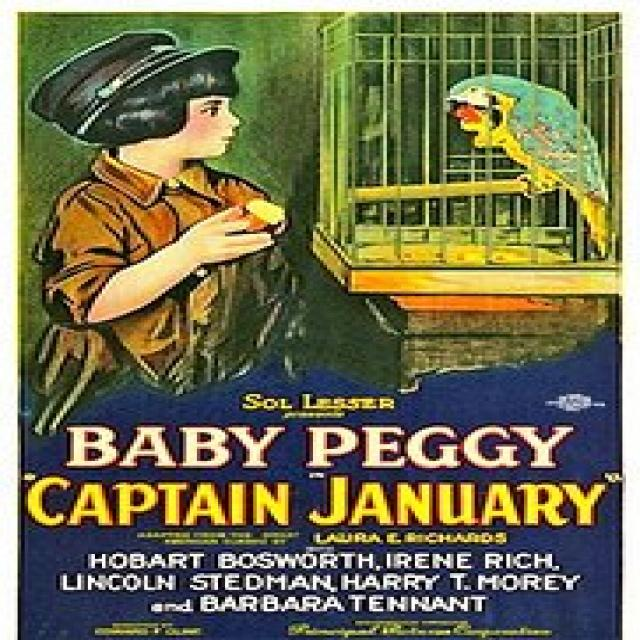movie-judul: (27, 416, 619, 540)
picture: (25, 25, 393, 420)
